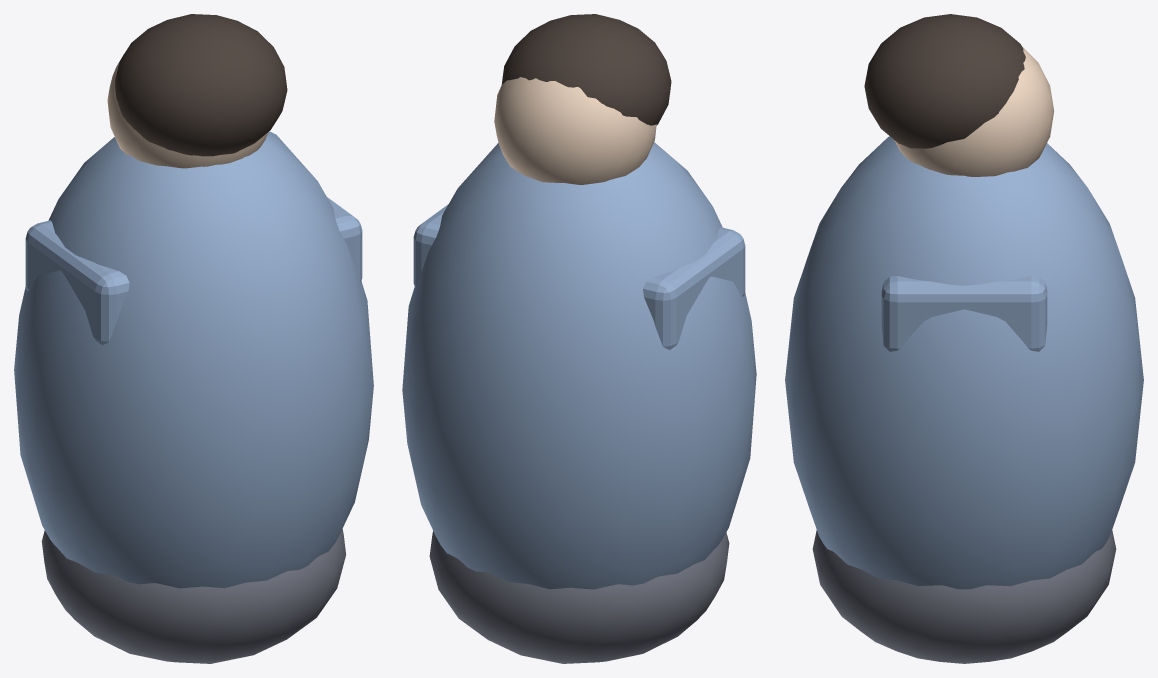
The model's file is PersonBody.fbx.
3 renders of one model, left to right at view 1: azimuth 30°, elevation 25°; view 2: azimuth 150°, elevation 25°; view 3: azimuth 270°, elevation 25°, orthographic.
Visible parts, largest first — view 1: PersonBody; view 2: PersonBody; view 3: PersonBody.
Boxes of the visible parts, <box> form: PersonBody: <box>14,14,373,663</box>; PersonBody: <box>402,14,756,663</box>; PersonBody: <box>785,14,1143,663</box>.
Bounding box in the file's own units: 52 × 99.4 × 52.
